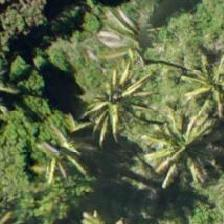coconut_tree: (112, 97, 202, 187), (49, 51, 139, 141), (16, 103, 106, 193), (87, 0, 177, 87), (159, 44, 223, 134)
